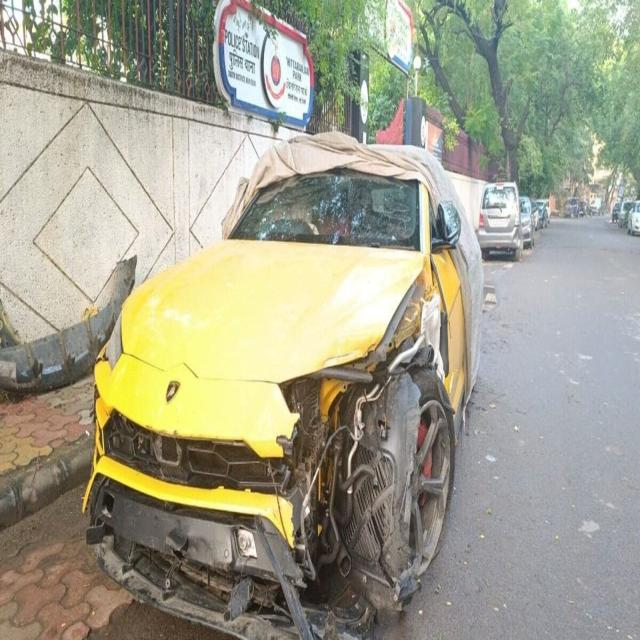accident: (84, 133, 482, 638)
car: (478, 182, 524, 260), (519, 196, 535, 249), (611, 198, 634, 227), (628, 200, 640, 236)
